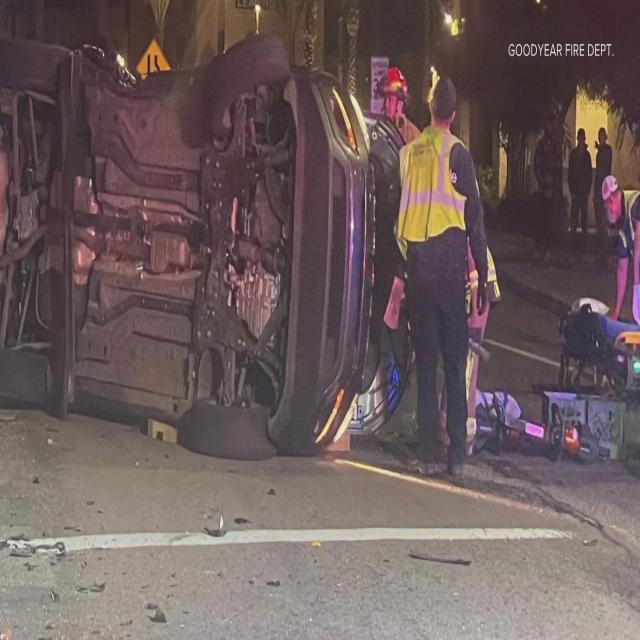accident: (0, 36, 399, 456)
